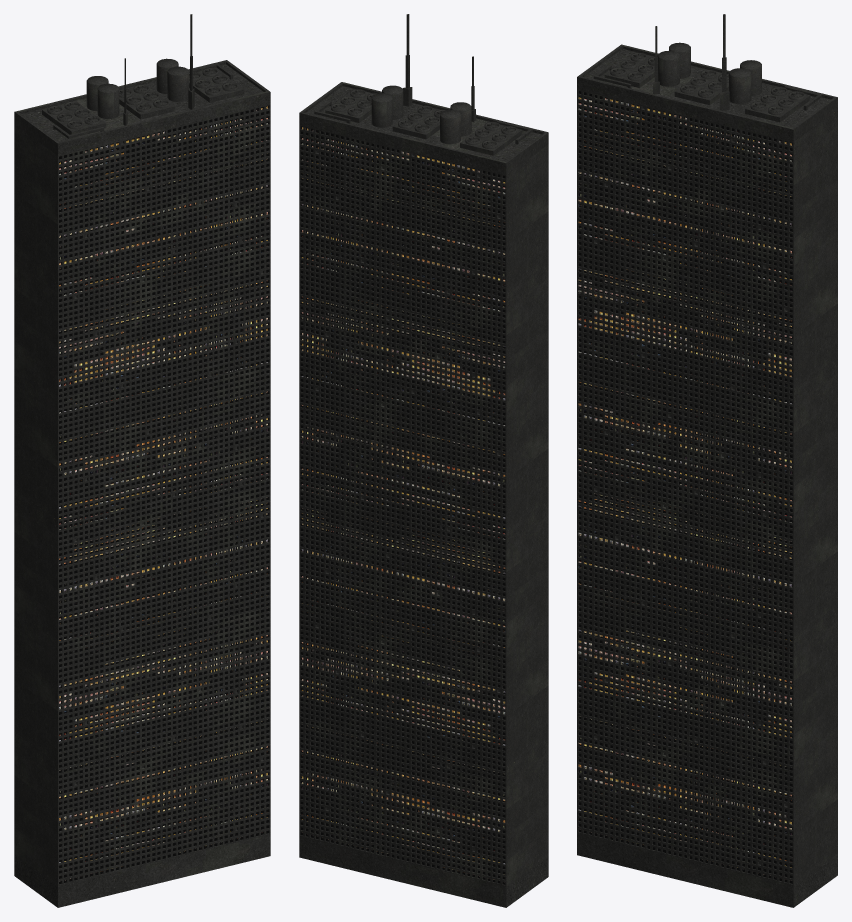
File: quality-skyscraper-rectangular-big.glb
The picture shows the model from 3 angles, left to right: view 1: azimuth 30°, elevation 25°; view 2: azimuth 150°, elevation 25°; view 3: azimuth 330°, elevation 25°; orthographic projection. The views are drawn at different scales.
Visible parts, largest first — view 1: Skyscraper_04.004; view 2: Skyscraper_04.004; view 3: Skyscraper_04.004.
Part boxes in pixels (bbox=[...]): Skyscraper_04.004: bbox=[14, 14, 270, 907]; Skyscraper_04.004: bbox=[299, 14, 548, 907]; Skyscraper_04.004: bbox=[577, 14, 837, 907].
Bounding box in the file's own units: 113 × 436 × 40.23.
2 materials, 2 textured.
